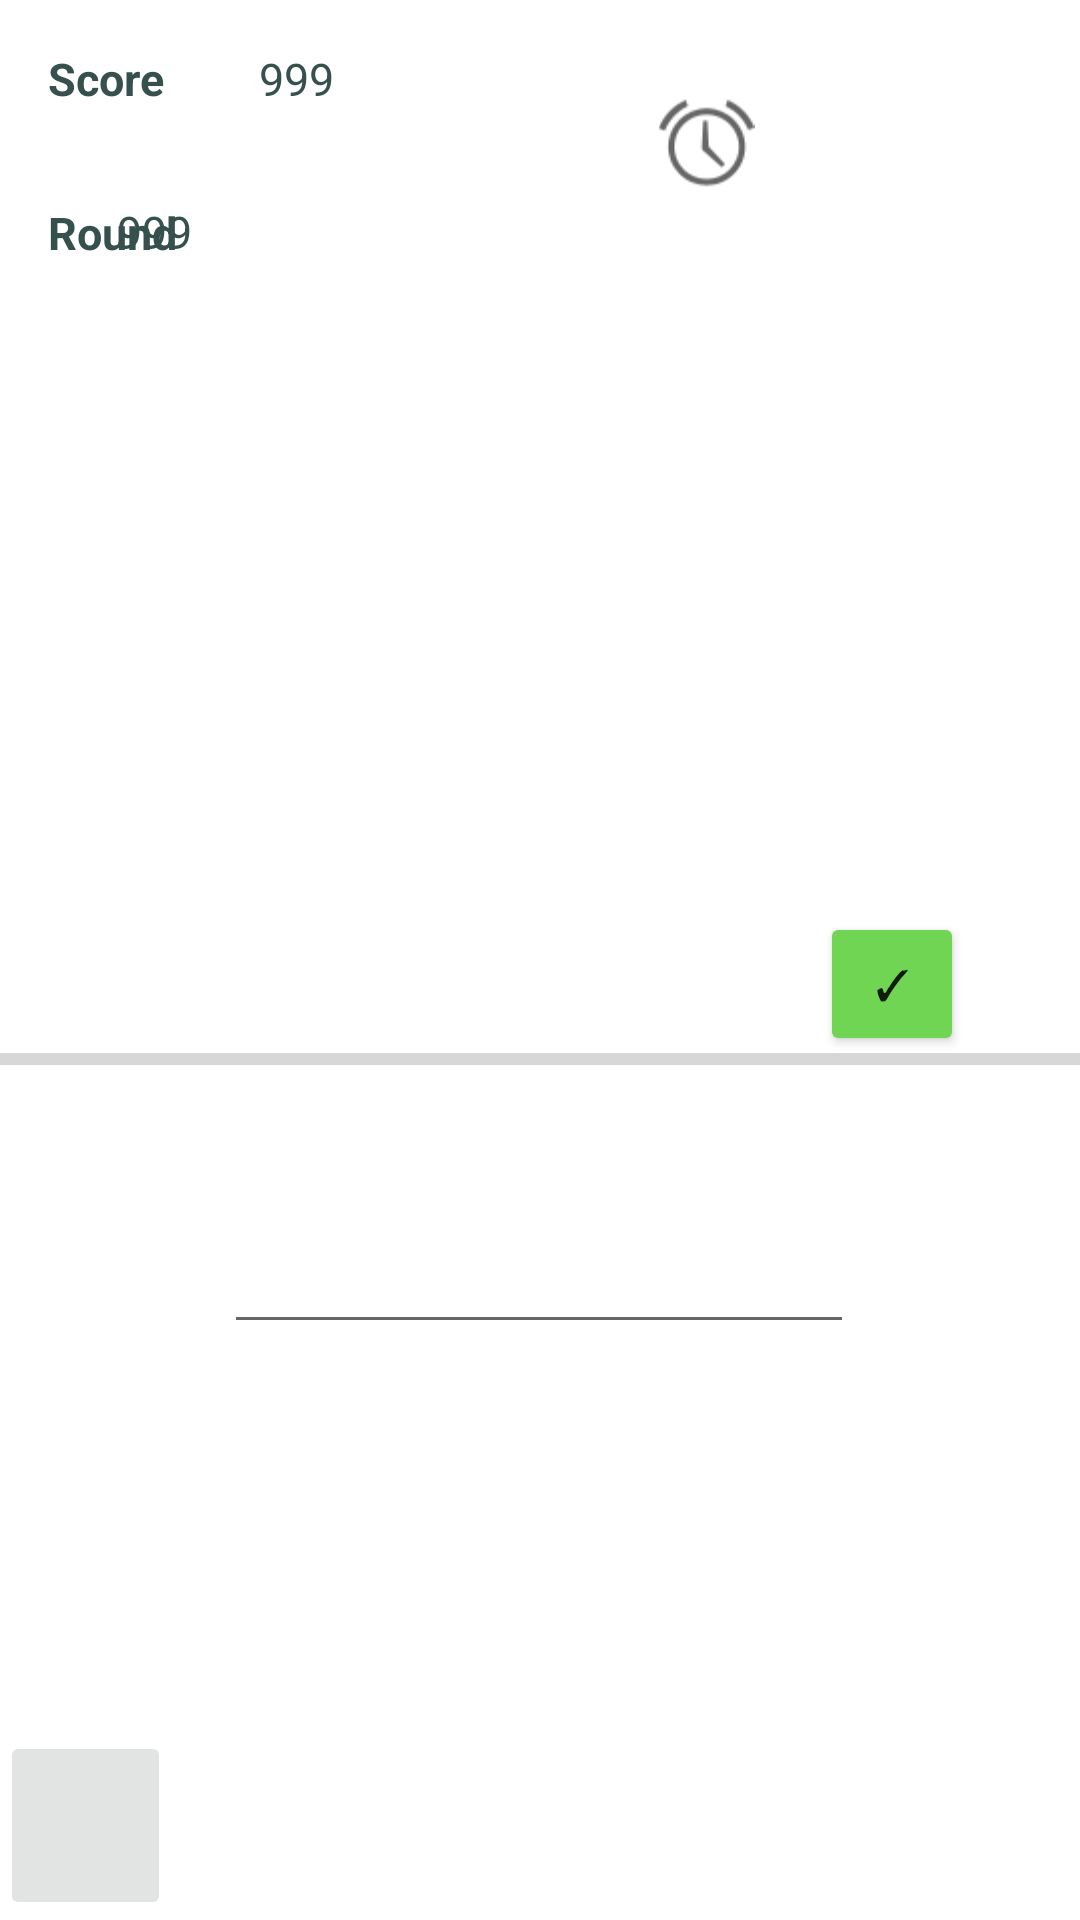

Named icons in this screenshot (1080px×1920px) and their bounding boxes, [x1, y1, x2, y2]:
lock idle alarm: [659, 99, 755, 186]
